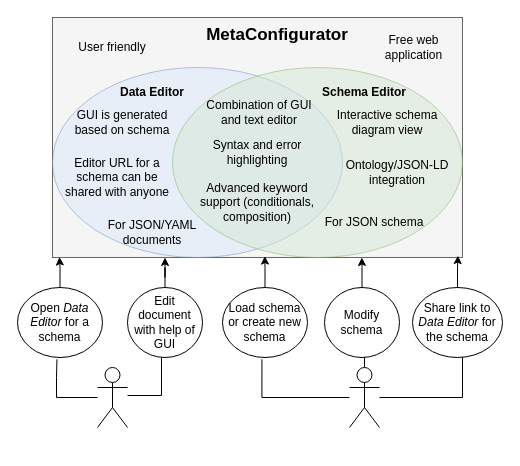
The diagram is 520 pixels wide and 466 high, and some of its shapes have lost their labels. The shapes that lost their labels are listed below. From the top down, each one's centre as x and y in pixels, then its label:
[112,397]: User
[364,397]: Schema Maintainer
